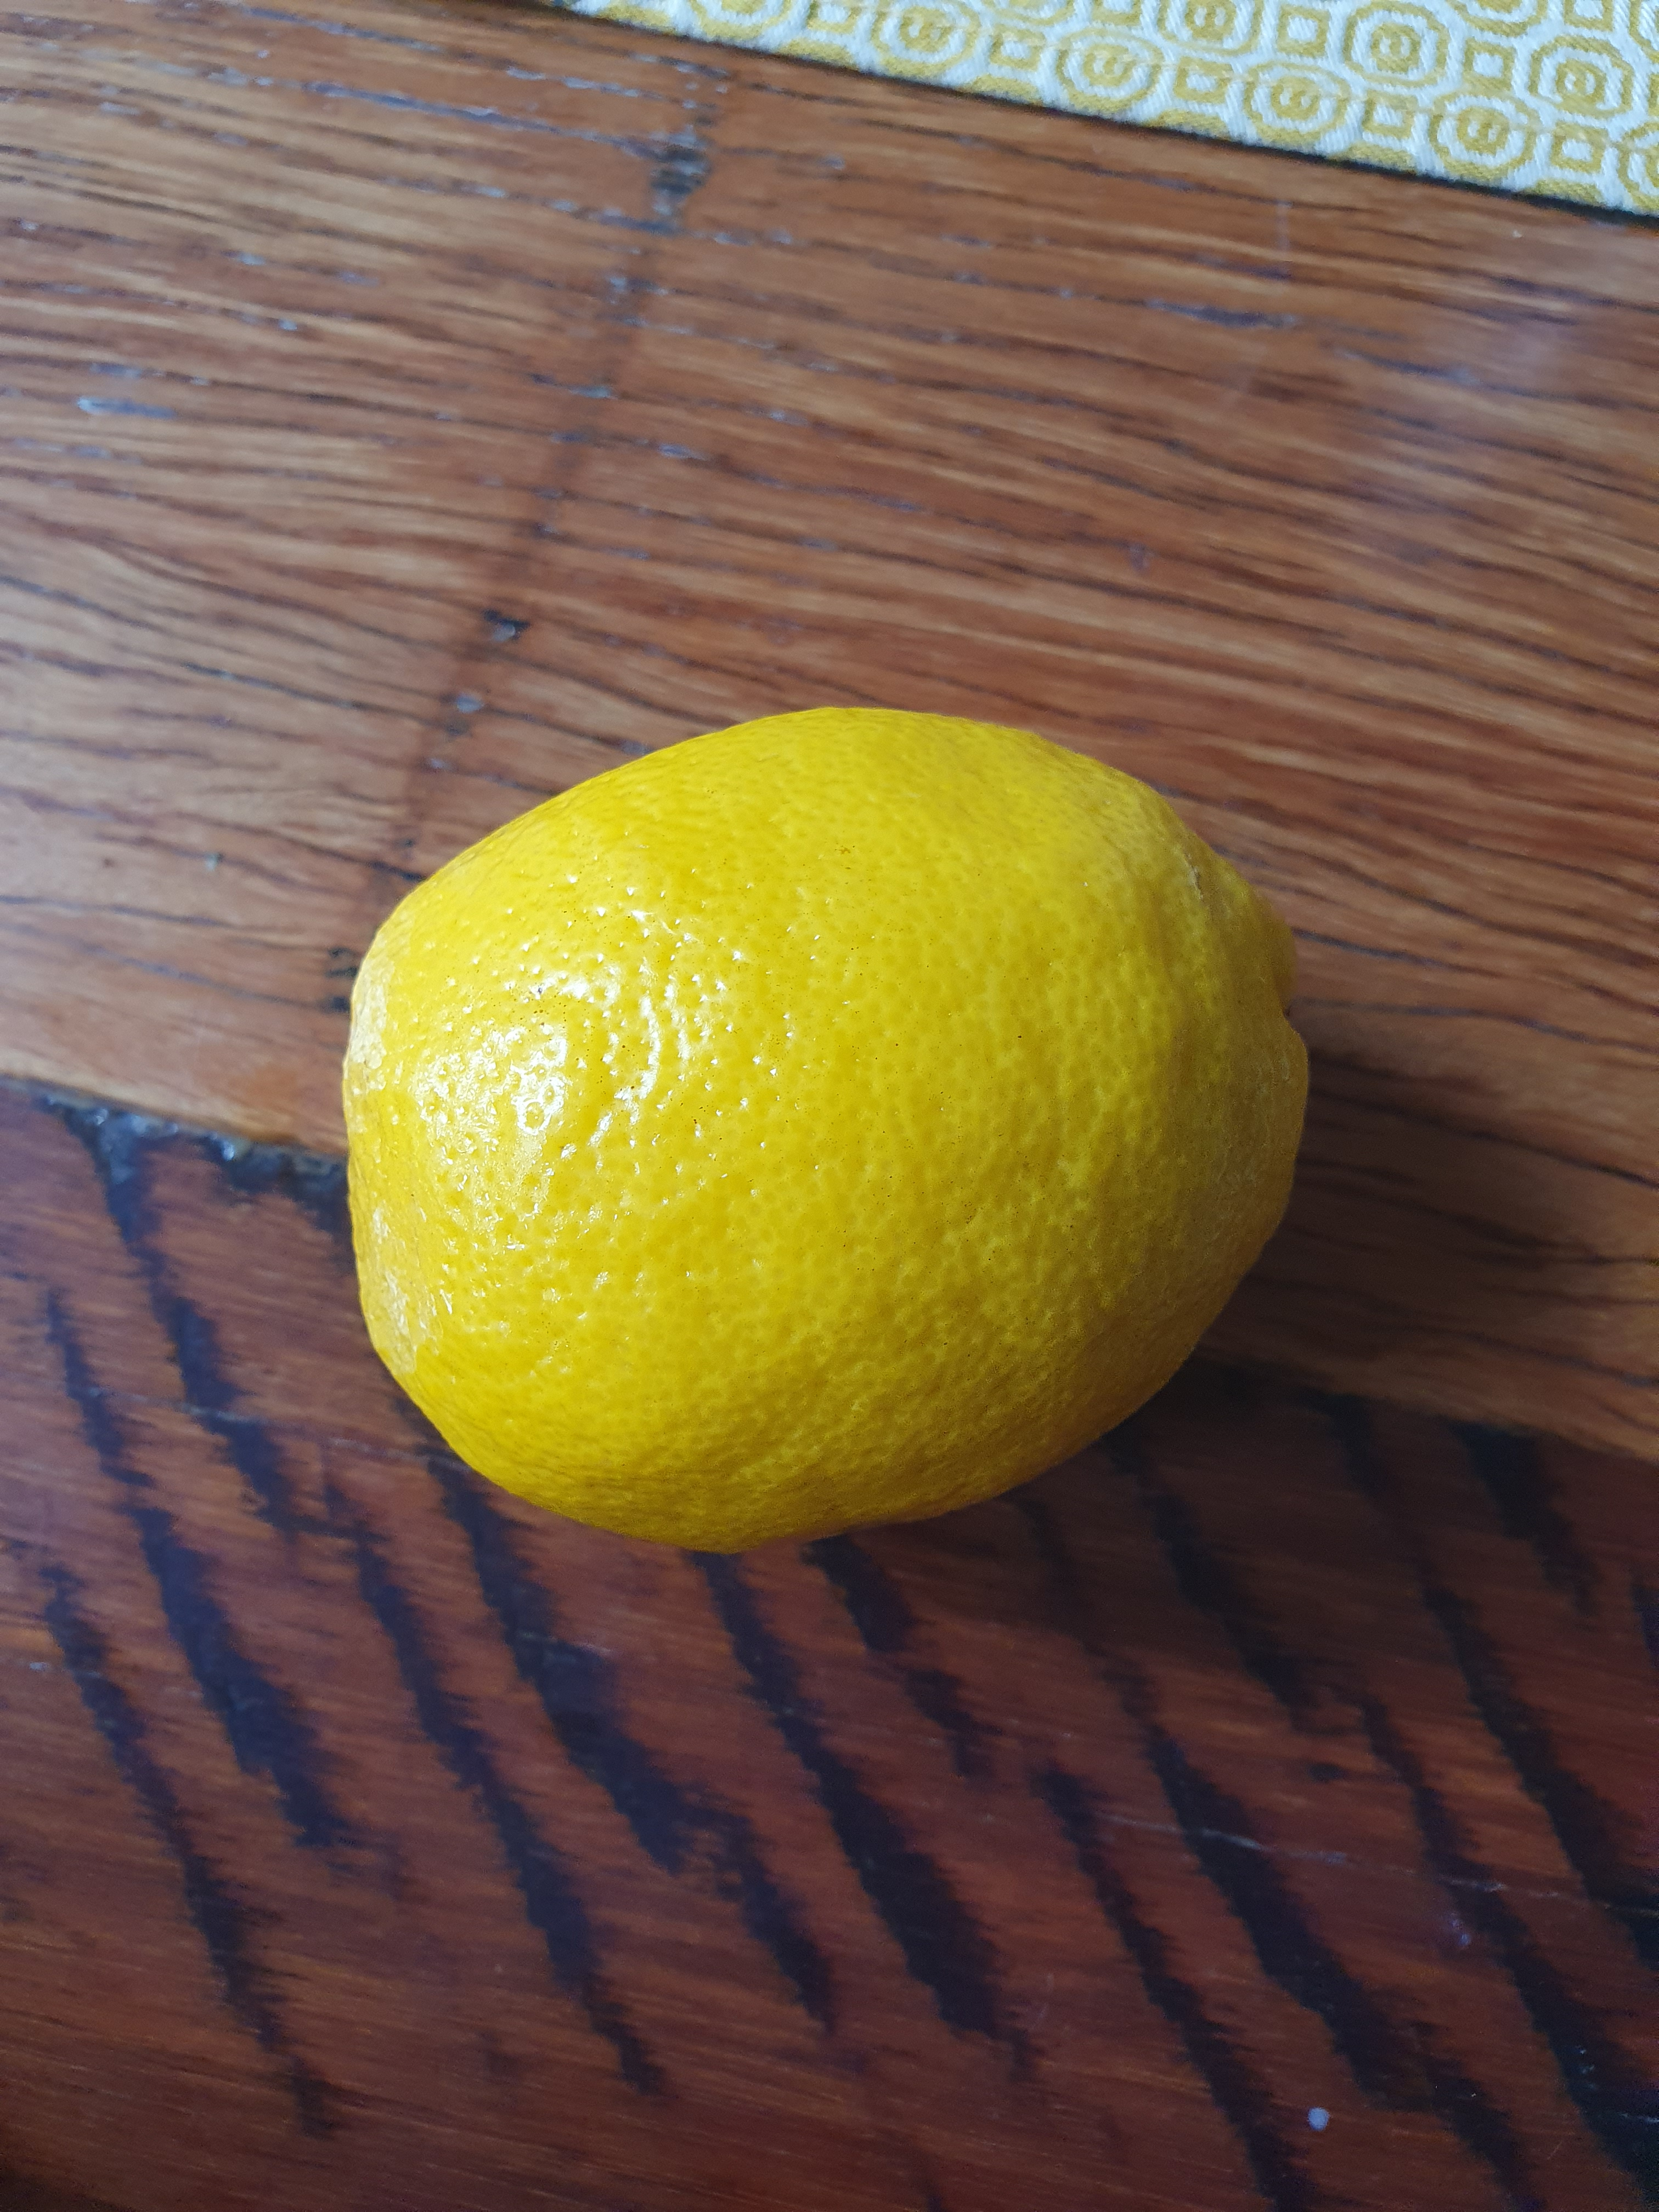lemon: (295, 648, 1356, 1618)
